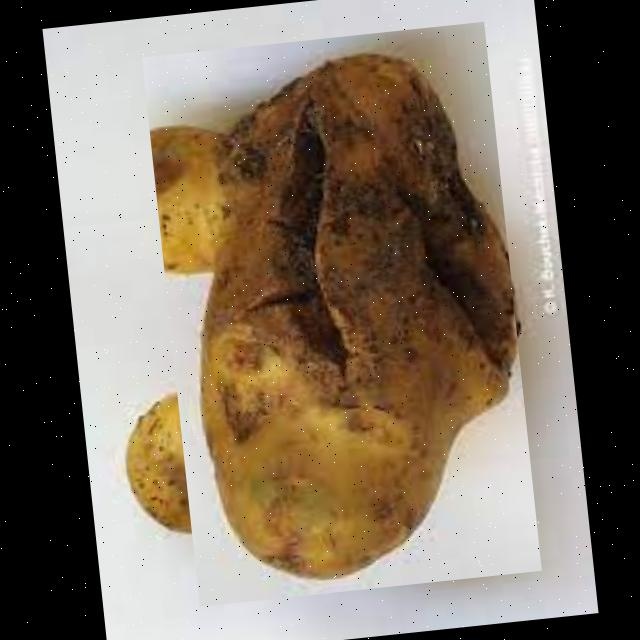Damaged potato: (142, 20, 542, 605)
